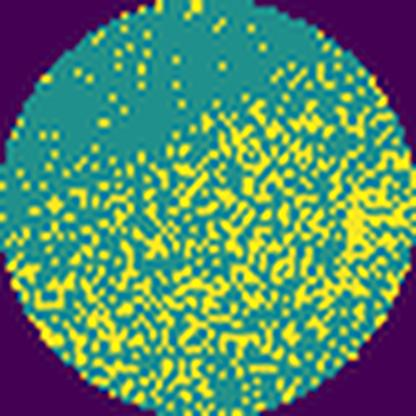Random: (10, 23, 415, 416)
